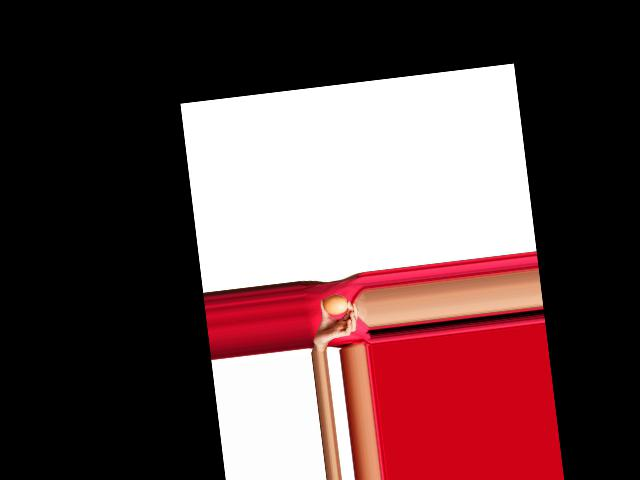egg: (322, 293, 349, 316)
